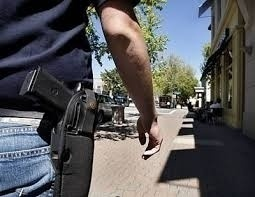pistol: (17, 68, 100, 194)
